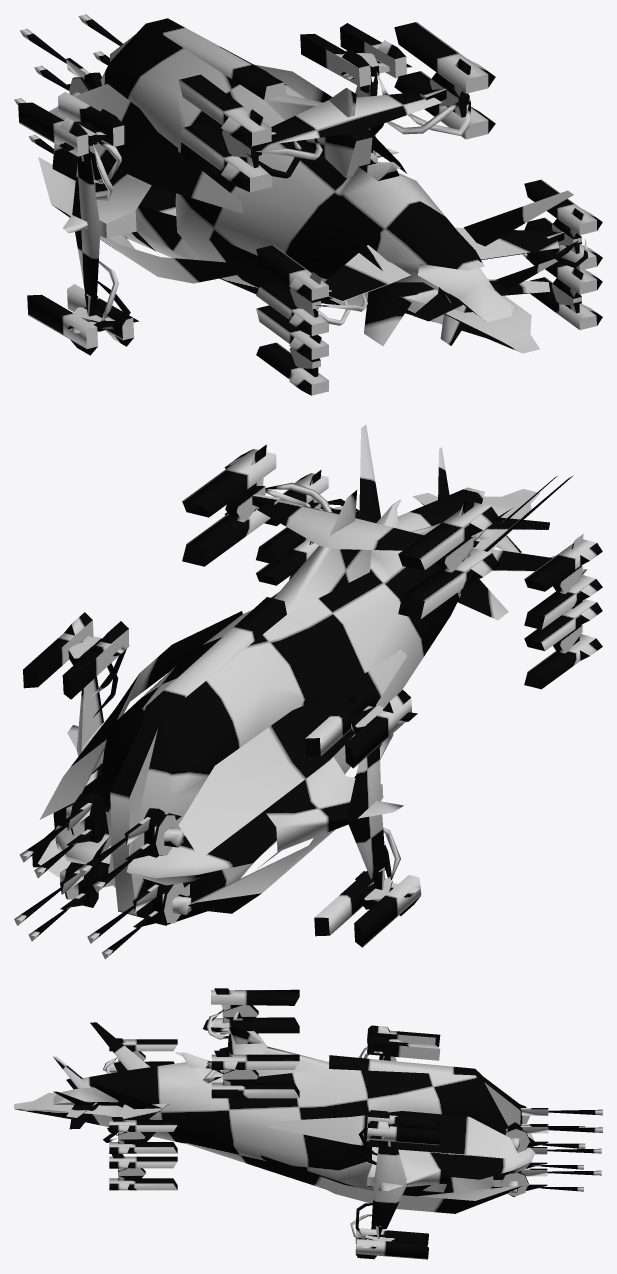
The model's file is convict.obj.
The picture shows the model from 3 angles, top to bottom: view 1: azimuth 30°, elevation 25°; view 2: azimuth 150°, elevation 25°; view 3: azimuth 270°, elevation 25°; orthographic projection. The views are drawn at different scales.
Parts seen in each view (by area): view 1: convict; view 2: convict; view 3: convict.
Part boxes in pixels (x1=…): convict: x1=14, y1=14, x2=602, y2=395; convict: x1=14, y1=424, x2=602, y2=959; convict: x1=14, y1=988, x2=602, y2=1259.
Size of the model in its own units: 3.62 by 3.13 by 8.7.
Materials: 1 (1 with a texture image).
